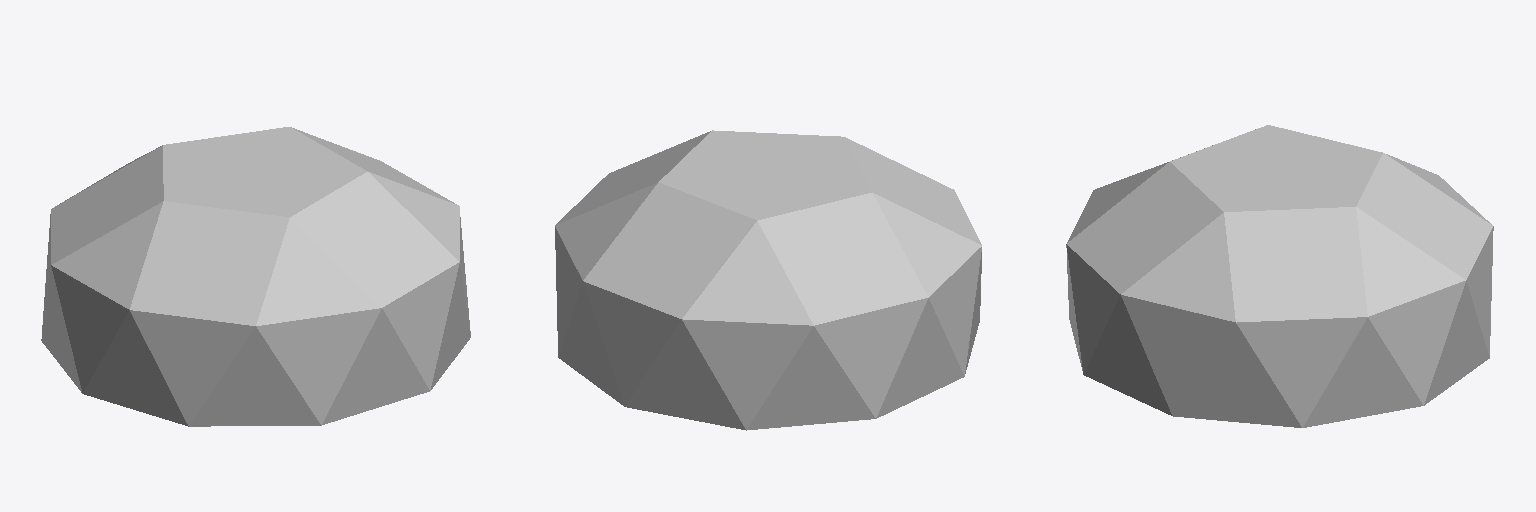
File: GyroElongatedPentagonalCupola.obj
3 views of the same model, side by side, from view 1: azimuth 30°, elevation 25°; view 2: azimuth 150°, elevation 25°; view 3: azimuth 270°, elevation 25° (orthographic).
Visible parts, largest first — view 1: GyroElongatedPentagonalCupola; view 2: GyroElongatedPentagonalCupola; view 3: GyroElongatedPentagonalCupola.
Boxes of the visible parts, <box> form: GyroElongatedPentagonalCupola: <box>41,127,470,426</box>; GyroElongatedPentagonalCupola: <box>555,130,981,430</box>; GyroElongatedPentagonalCupola: <box>1066,125,1493,427</box>.
Size of the model in its own units: 2.41 by 1.05 by 2.41.